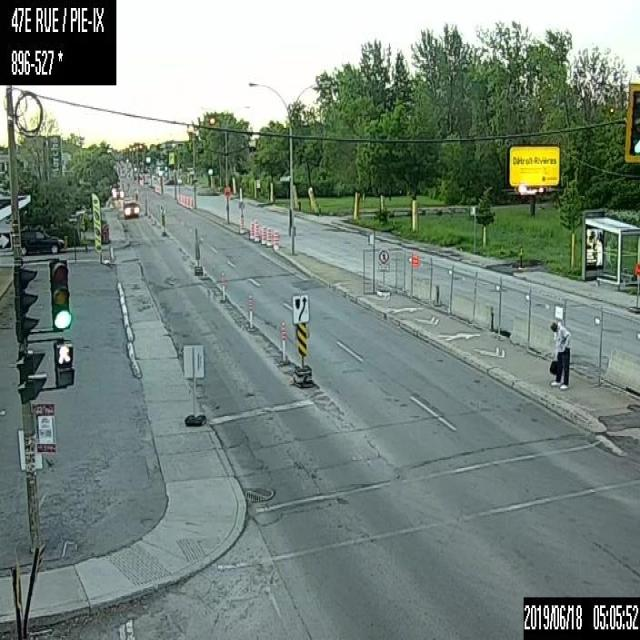construction: (181, 342, 210, 424), (410, 252, 420, 300), (630, 261, 639, 311), (247, 296, 254, 329), (280, 320, 285, 365), (220, 272, 225, 300), (255, 222, 260, 241), (266, 227, 271, 245), (249, 222, 254, 240), (273, 231, 278, 249), (262, 225, 266, 243)
pedestrian: (548, 317, 569, 391)
vehicle: (20, 228, 65, 252), (123, 199, 140, 217), (111, 185, 124, 198)
